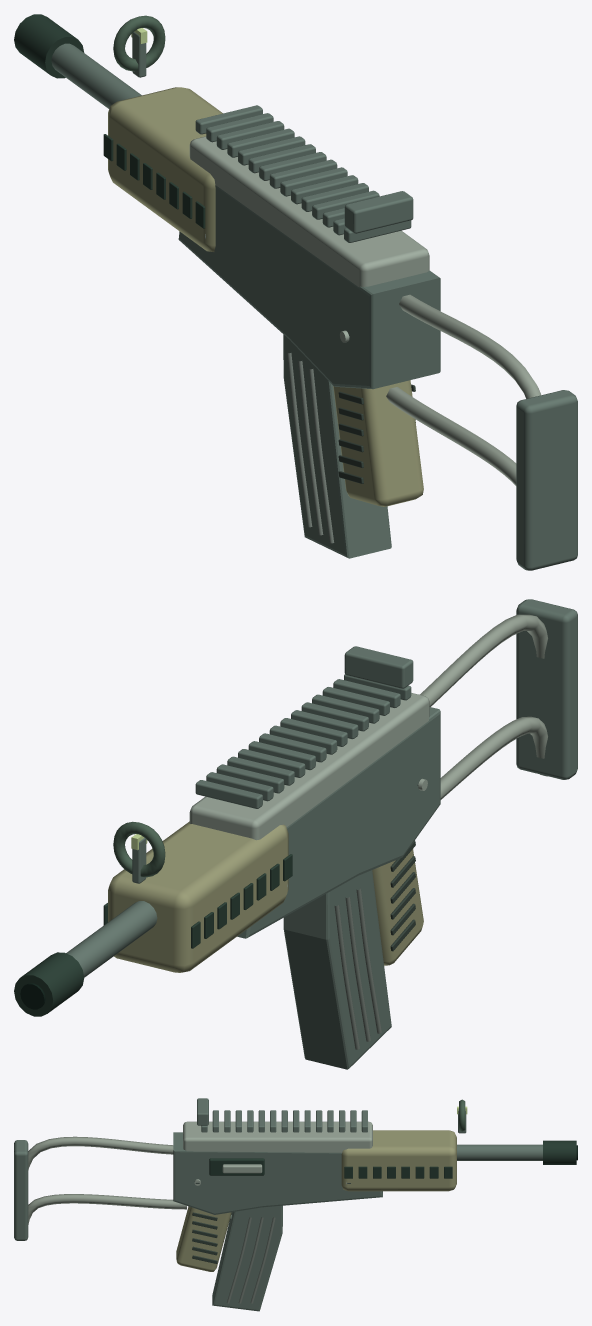
Rendered from galil.glb.
The picture shows the model from 3 angles, top to bottom: view 1: azimuth 30°, elevation 25°; view 2: azimuth 150°, elevation 25°; view 3: azimuth 270°, elevation 25°; orthographic projection. The views are drawn at different scales.
Parts seen in each view (by area): view 1: galil, magazine; view 2: galil, magazine; view 3: galil, magazine, bolt.
Part boxes in pixels (x1,y1,x2,y2): galil: (14, 14, 577, 570); magazine: (283, 334, 391, 558); galil: (14, 599, 577, 1016); magazine: (283, 870, 391, 1069); galil: (14, 1098, 577, 1271); magazine: (212, 1205, 282, 1311); bolt: (209, 1158, 264, 1175).
Bounding box in the file's own units: 0.1485 × 0.5726 × 1.43.
